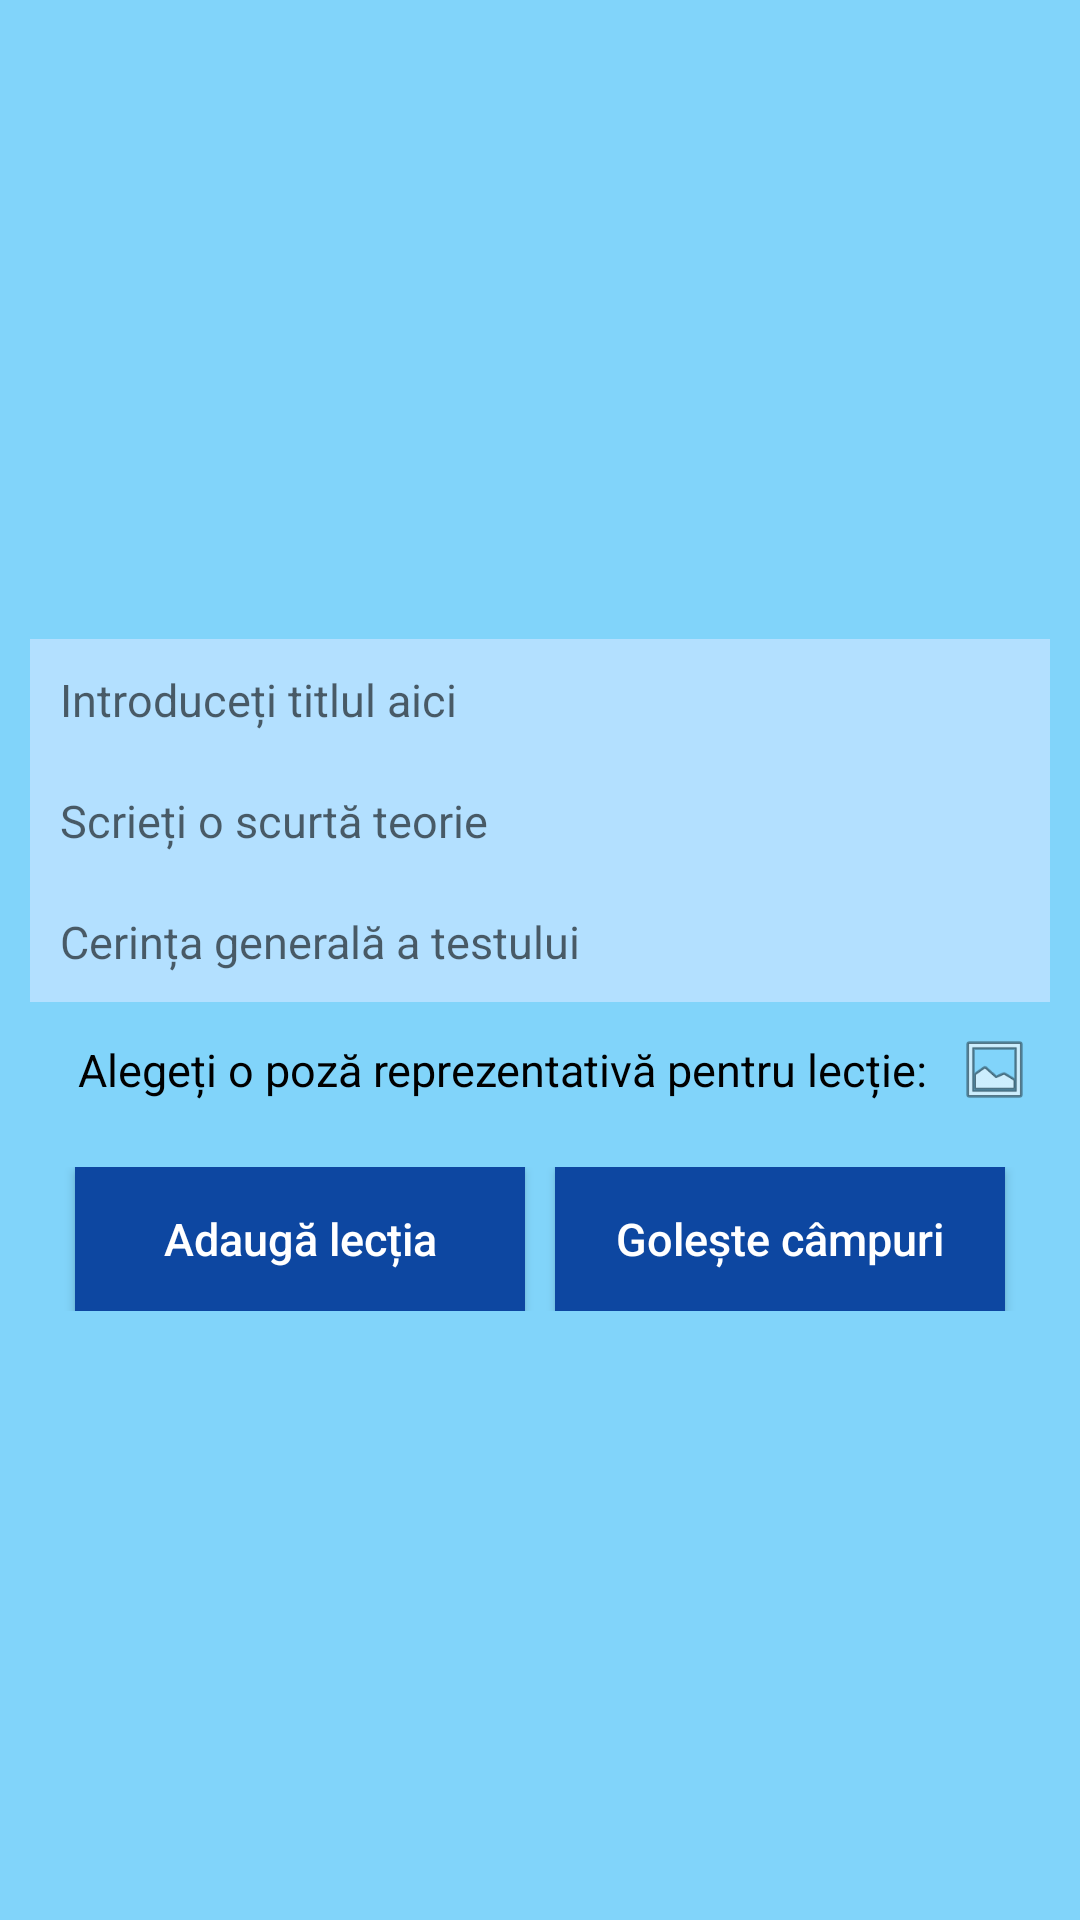

Icon click points for this 1080x1920 phone screenshot, format point (x, y):
Imagine indisponibilă: point (994, 1069)
